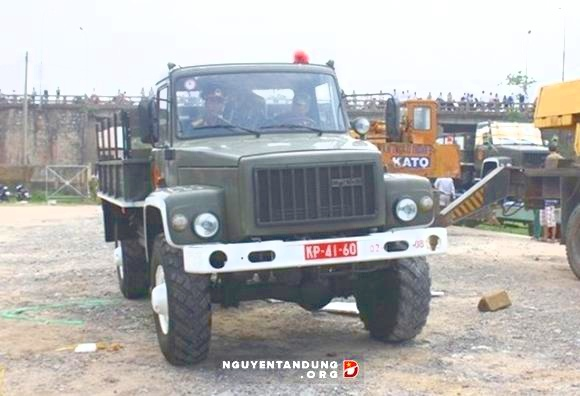plate: (304, 239, 361, 265)
